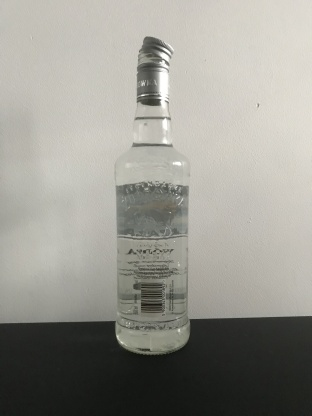nakretka: (134, 34, 175, 106)
